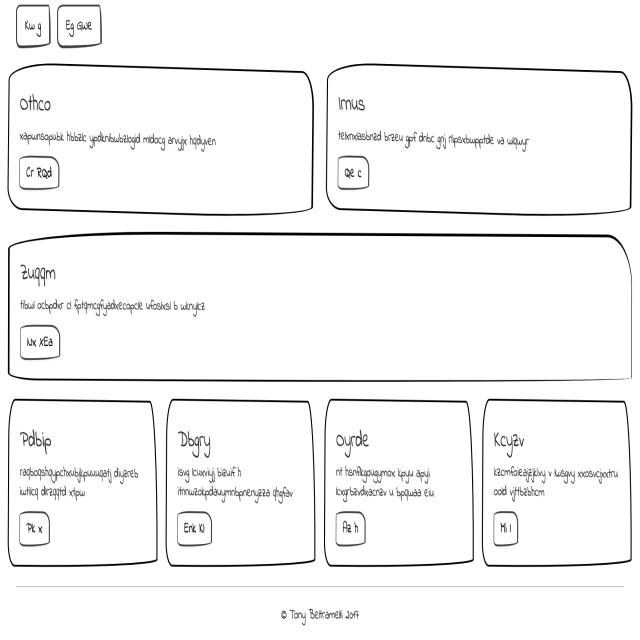Button: (16, 505, 57, 552), (19, 323, 62, 363), (175, 503, 215, 545), (18, 156, 62, 192), (491, 508, 522, 552), (334, 508, 368, 548), (336, 156, 371, 190)
Card: (8, 226, 637, 386), (324, 60, 636, 218), (8, 61, 314, 217), (480, 393, 633, 572), (323, 392, 475, 569), (7, 394, 159, 570), (165, 394, 317, 570)
Footer: (0, 582, 640, 640)
Heading 6: (17, 256, 59, 292), (175, 423, 216, 459), (491, 424, 532, 457), (16, 424, 54, 456), (335, 88, 369, 121), (334, 430, 373, 458), (17, 91, 53, 117)
Navigation Bar: (13, 2, 103, 51)
Paragraph: (334, 119, 542, 152), (17, 126, 220, 153), (492, 462, 624, 503), (171, 463, 305, 502), (331, 462, 445, 506), (18, 294, 210, 320), (18, 461, 140, 500)
